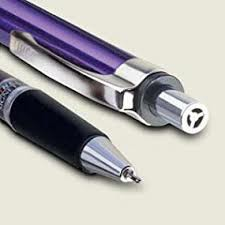pen: (1, 73, 145, 189), (95, 1, 202, 135)
